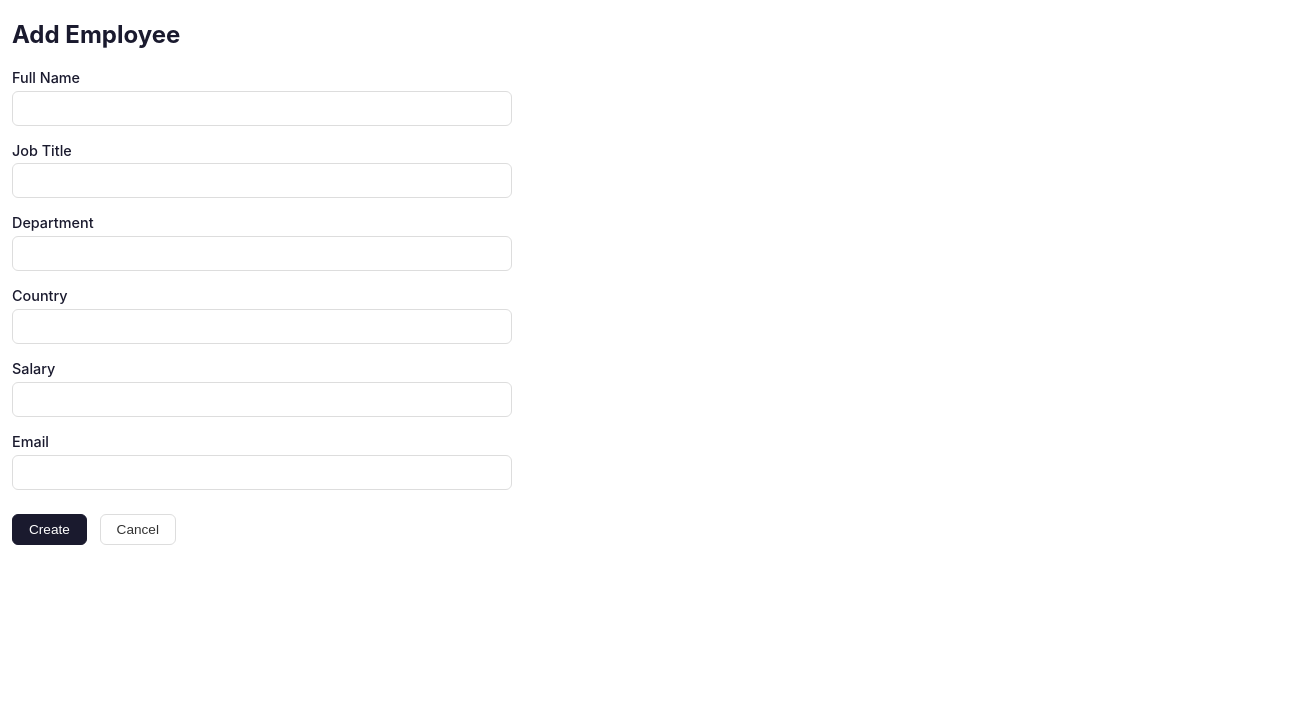
Test: EmployeeFormPage › Create mode › shows fallback error when response has no detail
Type "X" into the field labelled "Full Name" at (262, 108), box [12,91,512,126]
Type "Y" into the field labelled "Job Title" at (262, 181), box [12,163,512,198]
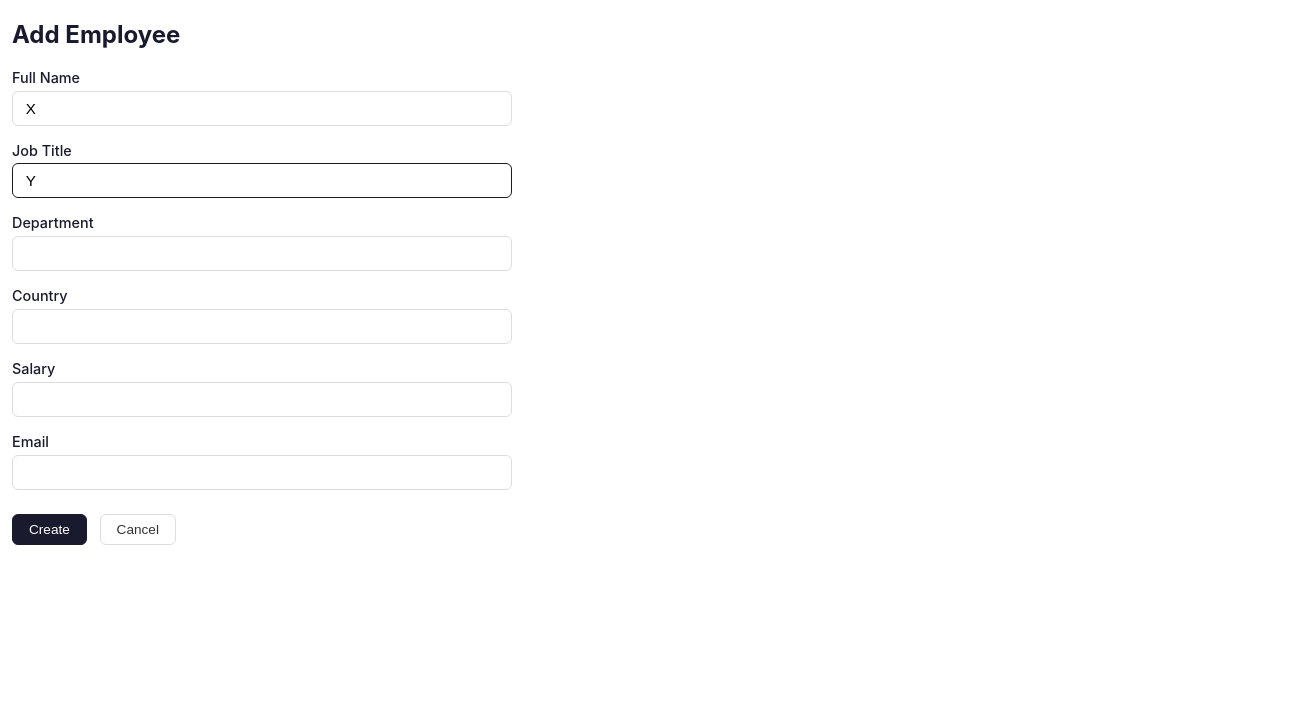
Type "Z" into the field labelled "Department" at (262, 254), box [12,236,512,271]
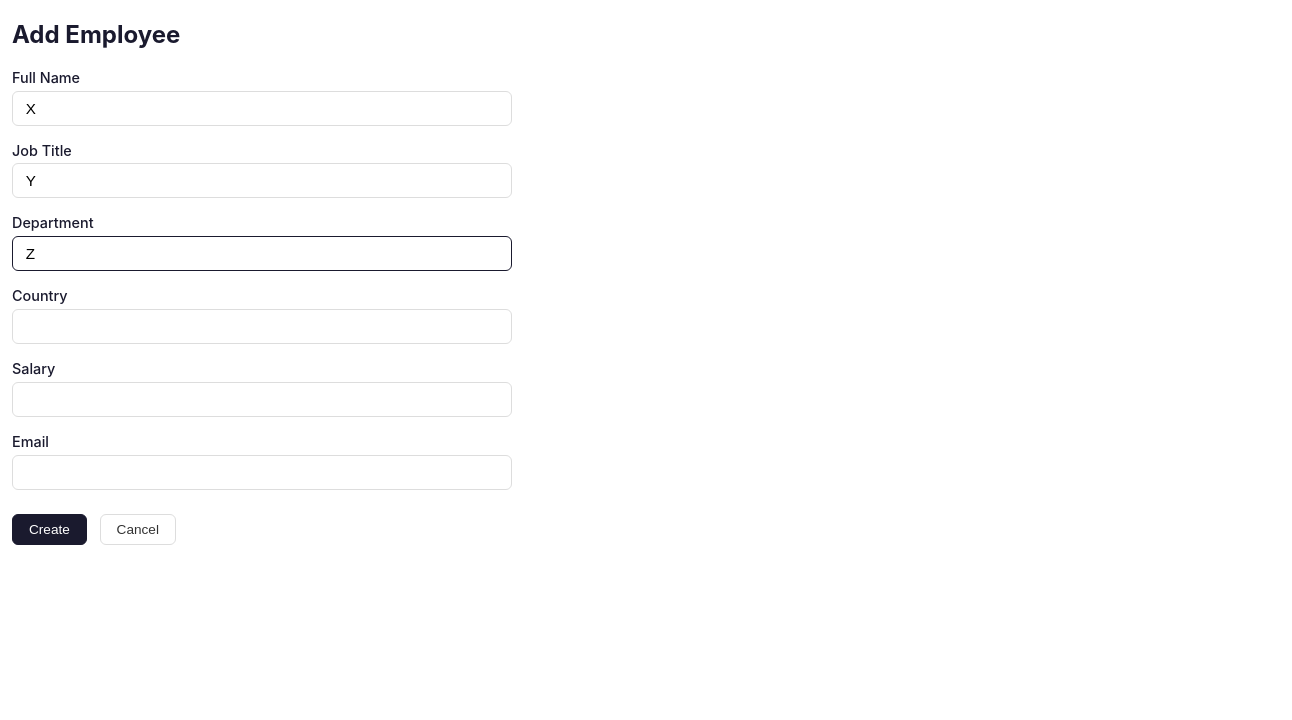
Type "W" into the field labelled "Country" at (262, 326), box [12,309,512,344]
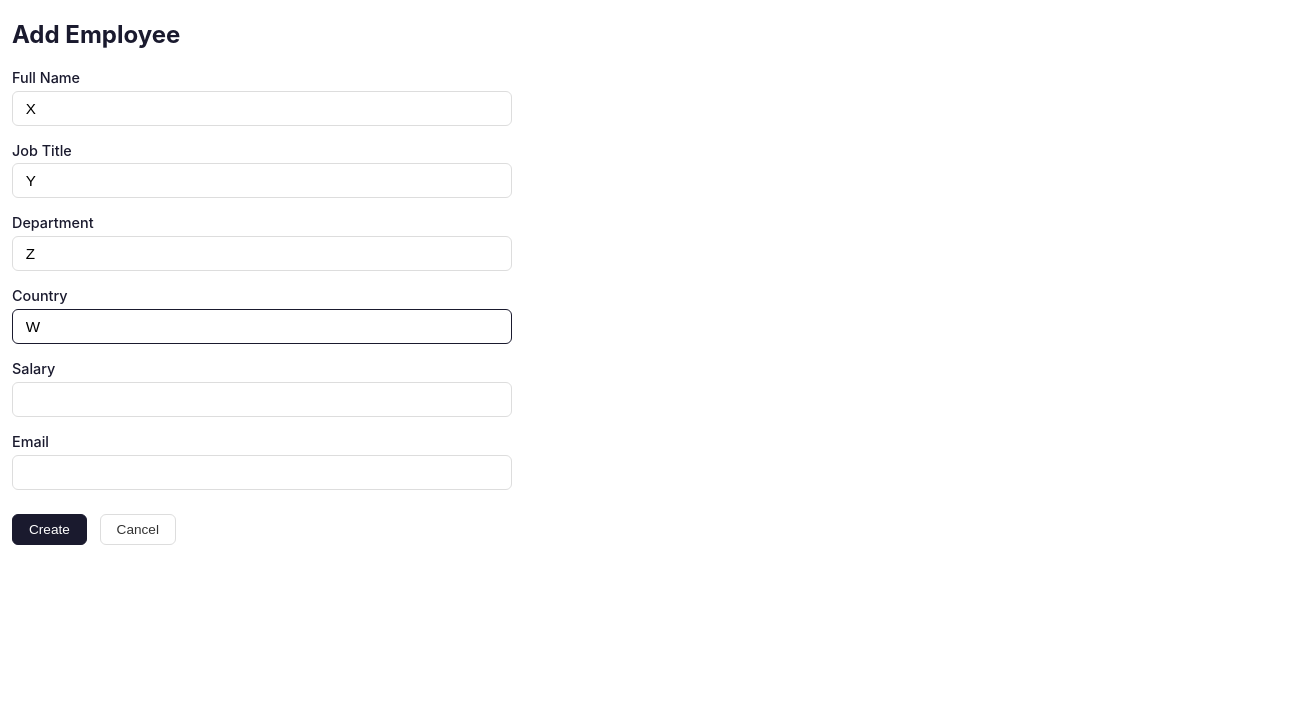
Type "1" into the number field labelled "Salary" at (262, 399), box [12,382,512,417]
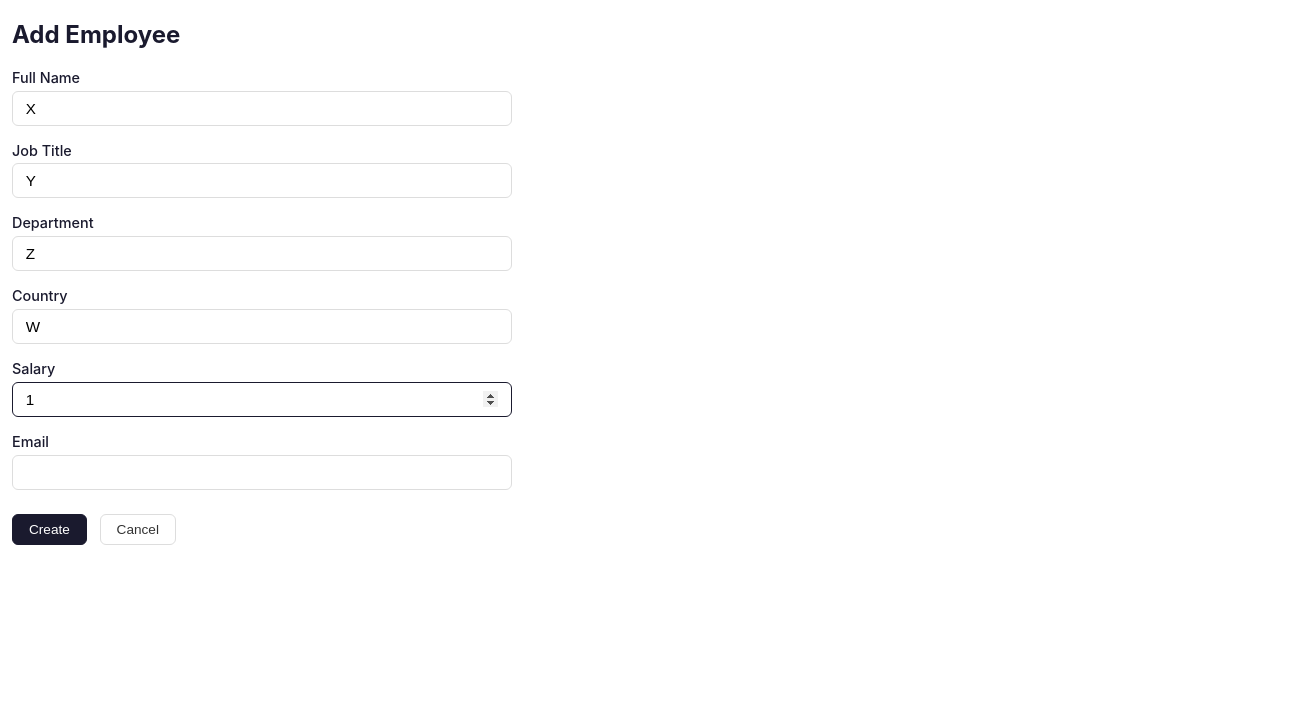
Type "x@y.com" into the field labelled "Email" at (262, 472), box [12,455,512,490]
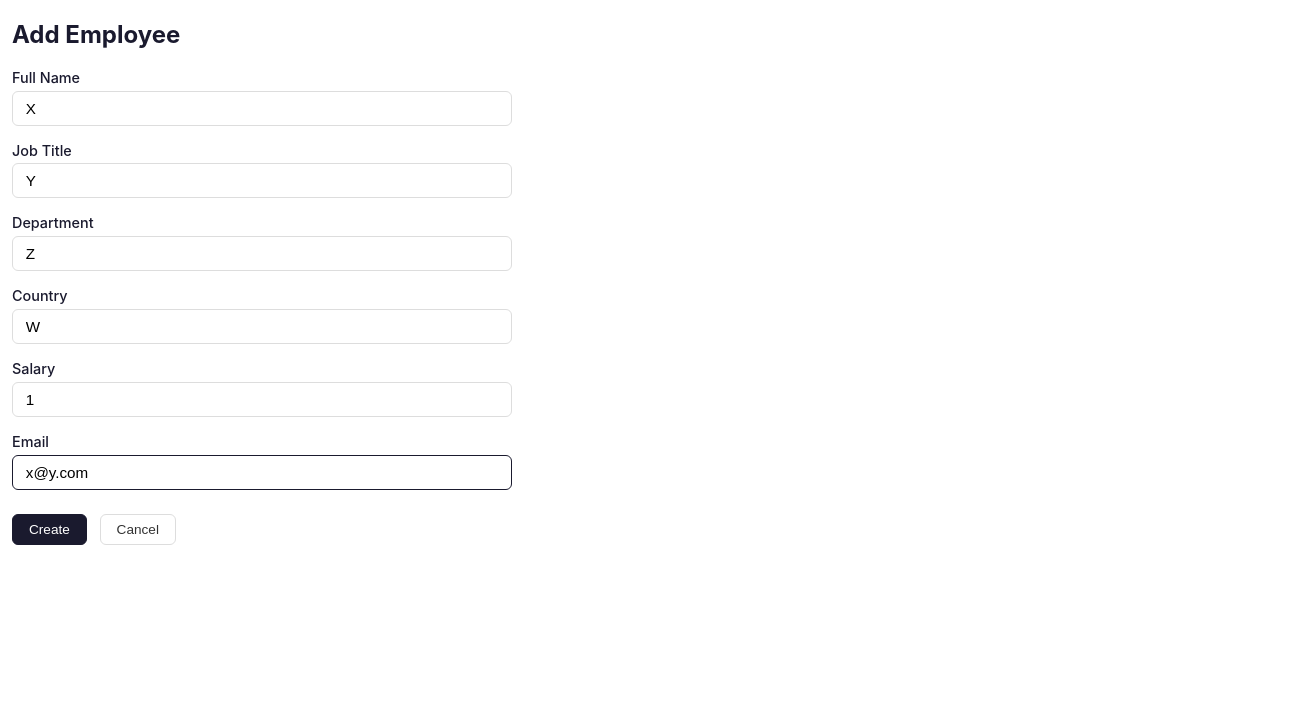
Click the button "Create" at (49, 529), box [12,514,87,545]
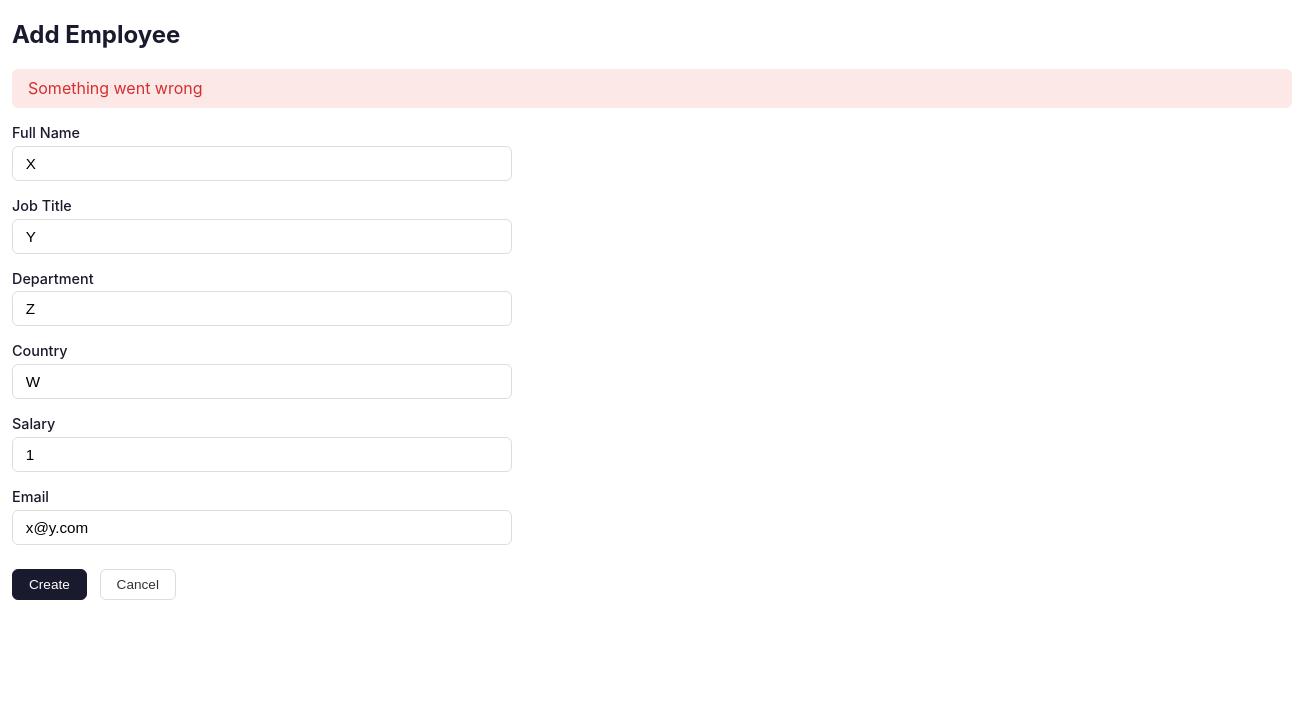
Now the text "Something went wrong" is shown, box [12,69,1291,108]
